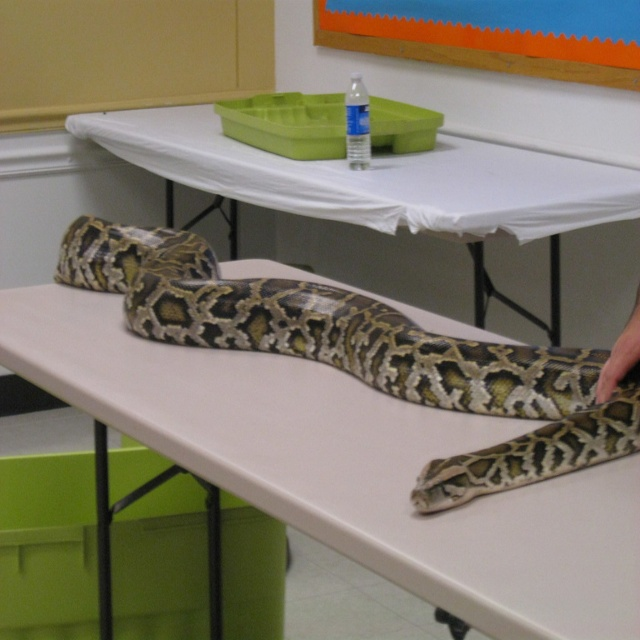Snake: (56, 212, 640, 509)
